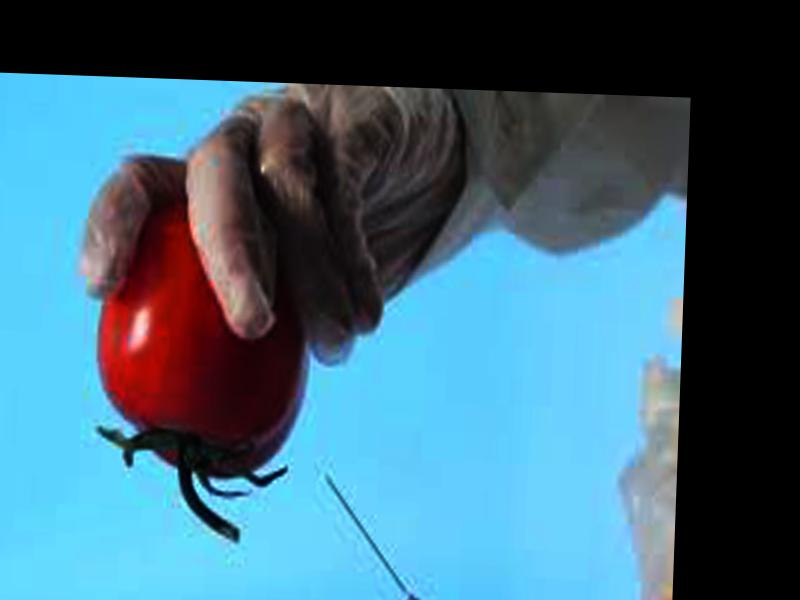Tomato: (92, 197, 309, 479)
